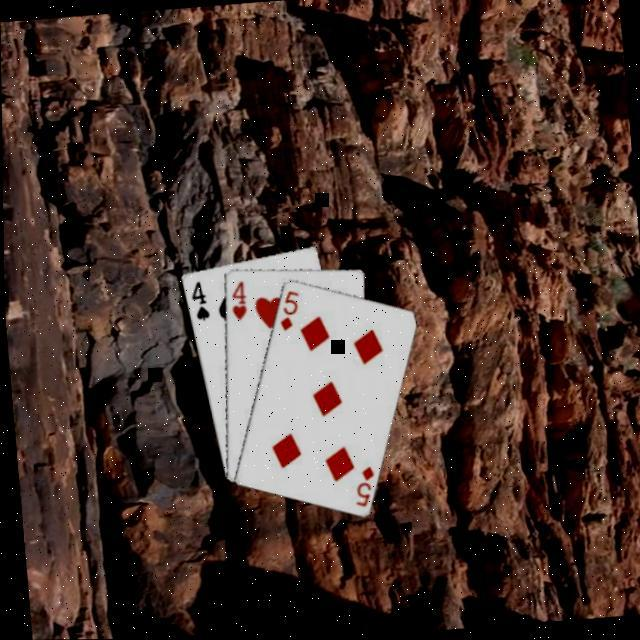4H: (226, 276, 250, 321)
4S: (186, 276, 212, 322)
5D: (273, 285, 304, 333), (348, 461, 379, 509)
